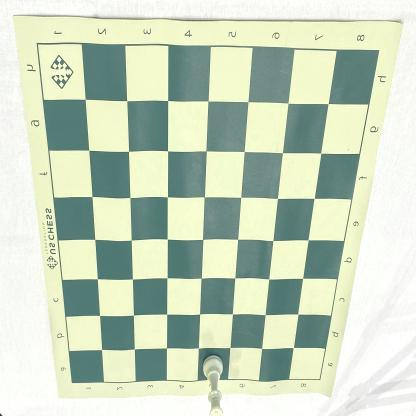white-queen: (202, 354, 223, 416)
